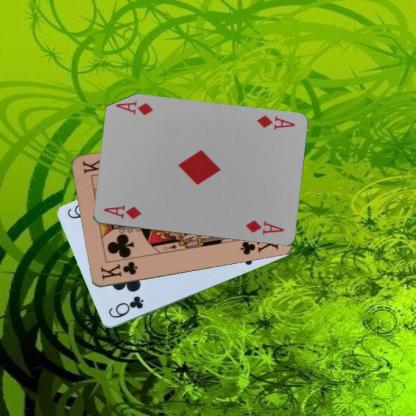6c: (106, 294, 145, 320)
Ad: (254, 113, 296, 132), (101, 202, 142, 221)
Kc: (98, 259, 138, 281)
